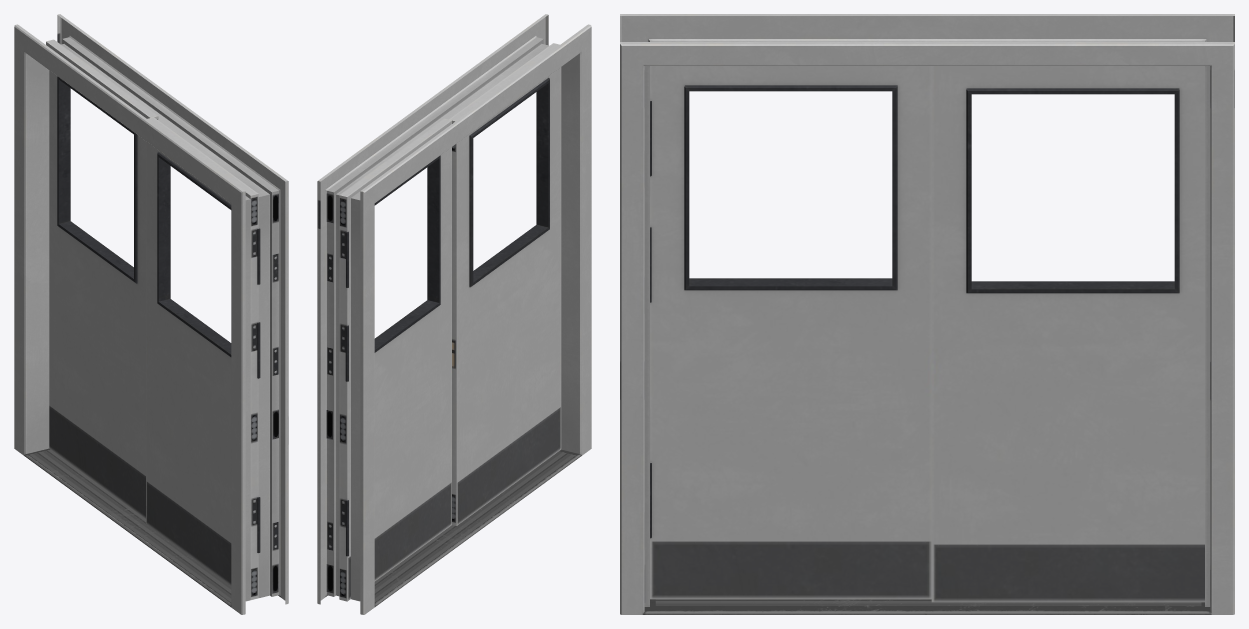
The model's file is door.glb.
3 renders of one model, left to right at view 1: azimuth 30°, elevation 25°; view 2: azimuth 150°, elevation 25°; view 3: azimuth 270°, elevation 25°, orthographic. The views are drawn at different scales.
Visible parts, largest first — view 1: bigdoorFrame, door1, door2; view 2: bigdoorFrame, door1, door2; view 3: door1, door2, bigdoorFrame.
Part boxes in pixels (bbox=[...]): bigdoorFrame: bbox=[14, 14, 288, 614]; door1: bbox=[146, 117, 260, 599]; door2: bbox=[46, 39, 158, 518]; bigdoorFrame: bbox=[317, 14, 591, 614]; door1: bbox=[449, 43, 561, 525]; door2: bbox=[339, 118, 451, 601]; door1: bbox=[650, 66, 931, 599]; door2: bbox=[931, 66, 1204, 602]; bigdoorFrame: bbox=[620, 14, 1234, 614].
Size of the model in its own units: 24 by 205 by 200.
Materials: 1 (1 with a texture image).
